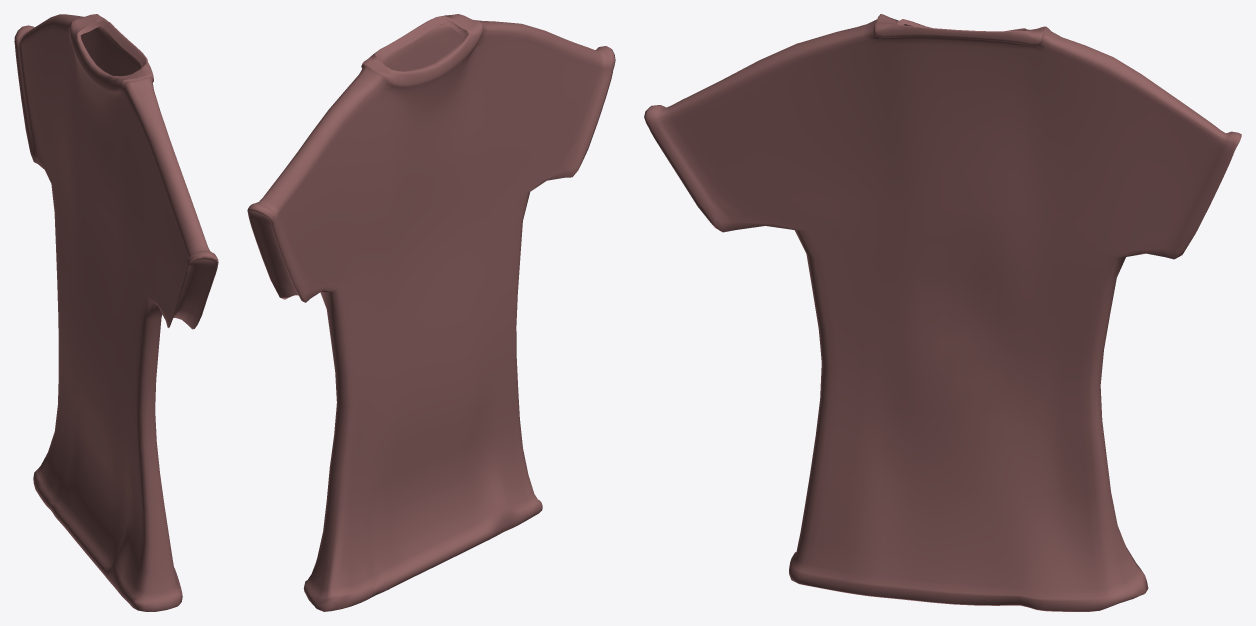
File: 3DGAME_Red_Shirt.fbx
3 views of the same model, side by side, from view 1: azimuth 30°, elevation 25°; view 2: azimuth 150°, elevation 25°; view 3: azimuth 270°, elevation 25° (orthographic). The views are drawn at different scales.
Visible parts, largest first — view 1: pCube1; view 2: pCube1; view 3: pCube1.
Boxes of the visible parts, x1,y1,x2,y2 form: pCube1: (14, 14, 218, 611); pCube1: (247, 14, 615, 611); pCube1: (644, 14, 1241, 611).
Size of the model in its own units: 0.1964 by 0.9058 by 0.8662.
